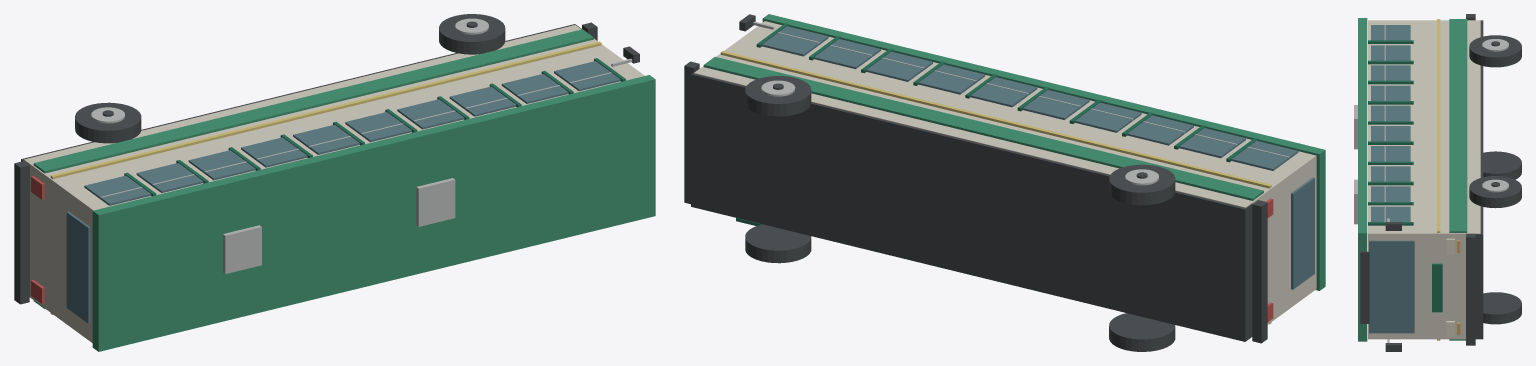
The model's file is tnstc_bus.glb.
The picture shows the model from 3 angles, left to right: view 1: azimuth 30°, elevation 25°; view 2: azimuth 150°, elevation 25°; view 3: azimuth 270°, elevation 25°; orthographic projection. The views are drawn at different scales.
Visible parts, largest first — view 1: roof, body, right green belt, right waist stripe, rear glass, rear bumper, tyre_3, tyre_2, roof vent_1, roof vent, right window 2, right window 0 (+9 smaller); view 2: chassis, body, right green belt, roof, right waist stripe, rear glass, rear bumper, tyre, tyre_1, tyre_2, tyre_3, right window 0 (+10 smaller); view 3: body, windshield, right green belt, roof, chassis, tyre_2, tyre_3, tyre_1, front bumper, tyre, right waist stripe, route board (+28 smaller).
Part boxes in pixels (x1,y1,x2,y2): roof: (92,75,655,351); body: (24,25,644,342); right green belt: (33,29,593,173); right waist stripe: (50,41,601,179); rear glass: (66,211,90,323); rear bumper: (14,161,29,304); tyre_3: (439,14,505,54); tyre_2: (75,102,141,143); roof vent_1: (416,178,455,226); roof vent: (223,225,261,273); right window 2: (188,150,255,180); right window 0: (84,175,151,205); chassis: (691,68,1252,341); body: (694,21,1316,324); right green belt: (703,57,1263,200); roof: (762,14,1325,290); right waist stripe: (720,51,1271,188); rear glass: (1291,177,1314,289); rear bumper: (1252,200,1267,343); tyre: (1109,313,1175,351); tyre_1: (745,224,811,263); tyre_2: (1109,164,1175,205); tyre_3: (745,76,811,116); right window 0: (1231,140,1298,170); body: (1368,20,1480,339); windshield: (1369,240,1414,333); right green belt: (1449,19,1467,232); roof: (1358,18,1367,341); chassis: (1475,20,1483,339); tyre_2: (1469,35,1521,67); tyre_3: (1469,176,1521,208); tyre_1: (1483,292,1521,324); front bumper: (1466,233,1475,345); tyre: (1483,151,1521,179); right waist stripe: (1437,19,1440,232); route board: (1360,251,1369,323).
Bounding box in the file's own units: 11.04 × 3.06 × 3.51.
